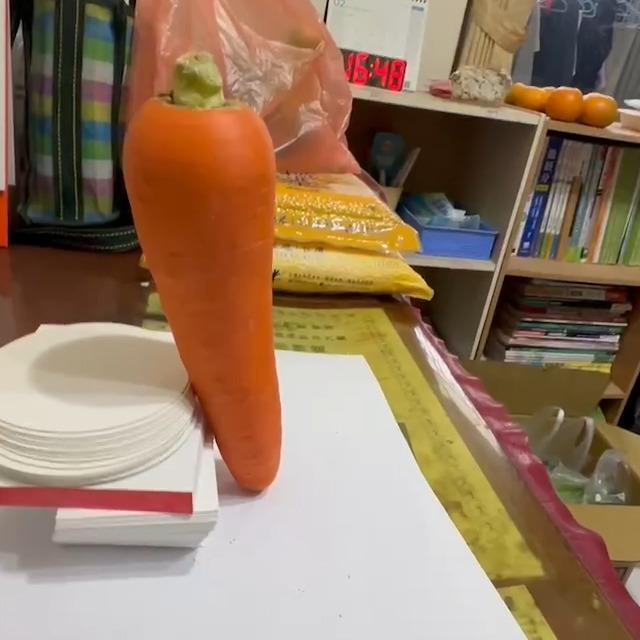carrot: (122, 55, 289, 498)
